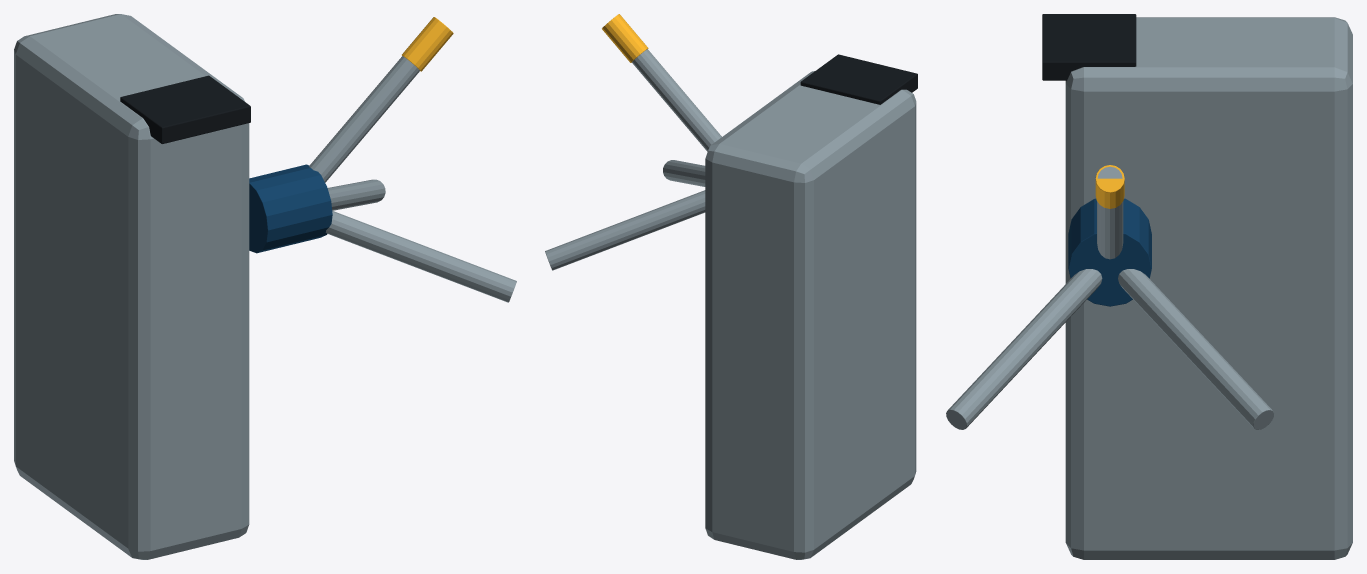
The model's file is edited.glb.
3 views of the same model, side by side, from view 1: azimuth 30°, elevation 25°; view 2: azimuth 150°, elevation 25°; view 3: azimuth 270°, elevation 25° (orthographic). The views are drawn at different scales.
Parts seen in each view (by area): view 1: CABINET, TRIPOD_Hub, READER, TRIPOD_Arm.002, TRIPOD_Arm, TRIPOD_GripMarker, TRIPOD_Arm.001; view 2: CABINET, TRIPOD_Arm.001, READER, TRIPOD_Arm, TRIPOD_GripMarker, TRIPOD_Arm.002; view 3: CABINET, TRIPOD_Arm.001, TRIPOD_Arm.002, READER, TRIPOD_Hub, TRIPOD_Arm, TRIPOD_GripMarker.
Part boxes in pixels (bbox=[...]): CABINET: bbox=[14, 14, 249, 559]; TRIPOD_Hub: bbox=[249, 164, 332, 253]; READER: bbox=[120, 75, 250, 143]; TRIPOD_Arm.002: bbox=[325, 211, 516, 302]; TRIPOD_Arm: bbox=[309, 56, 419, 182]; TRIPOD_GripMarker: bbox=[402, 17, 453, 71]; TRIPOD_Arm.001: bbox=[327, 179, 385, 210]; CABINET: bbox=[705, 71, 916, 559]; TRIPOD_Arm.001: bbox=[545, 190, 705, 270]; READER: bbox=[800, 54, 917, 104]; TRIPOD_Arm: bbox=[632, 49, 721, 151]; TRIPOD_GripMarker: bbox=[602, 14, 648, 62]; TRIPOD_Arm.002: bbox=[663, 160, 705, 186]; CABINET: bbox=[1065, 17, 1352, 559]; TRIPOD_Arm.001: bbox=[1118, 269, 1274, 429]; TRIPOD_Arm.002: bbox=[946, 269, 1102, 429]; READER: bbox=[1042, 14, 1136, 80]; TRIPOD_Hub: bbox=[1068, 198, 1151, 306]; TRIPOD_Arm: bbox=[1097, 166, 1123, 259]; TRIPOD_GripMarker: bbox=[1095, 165, 1124, 208].
Bounding box in the file's own units: 0.8255 × 1.08 × 0.7792.
